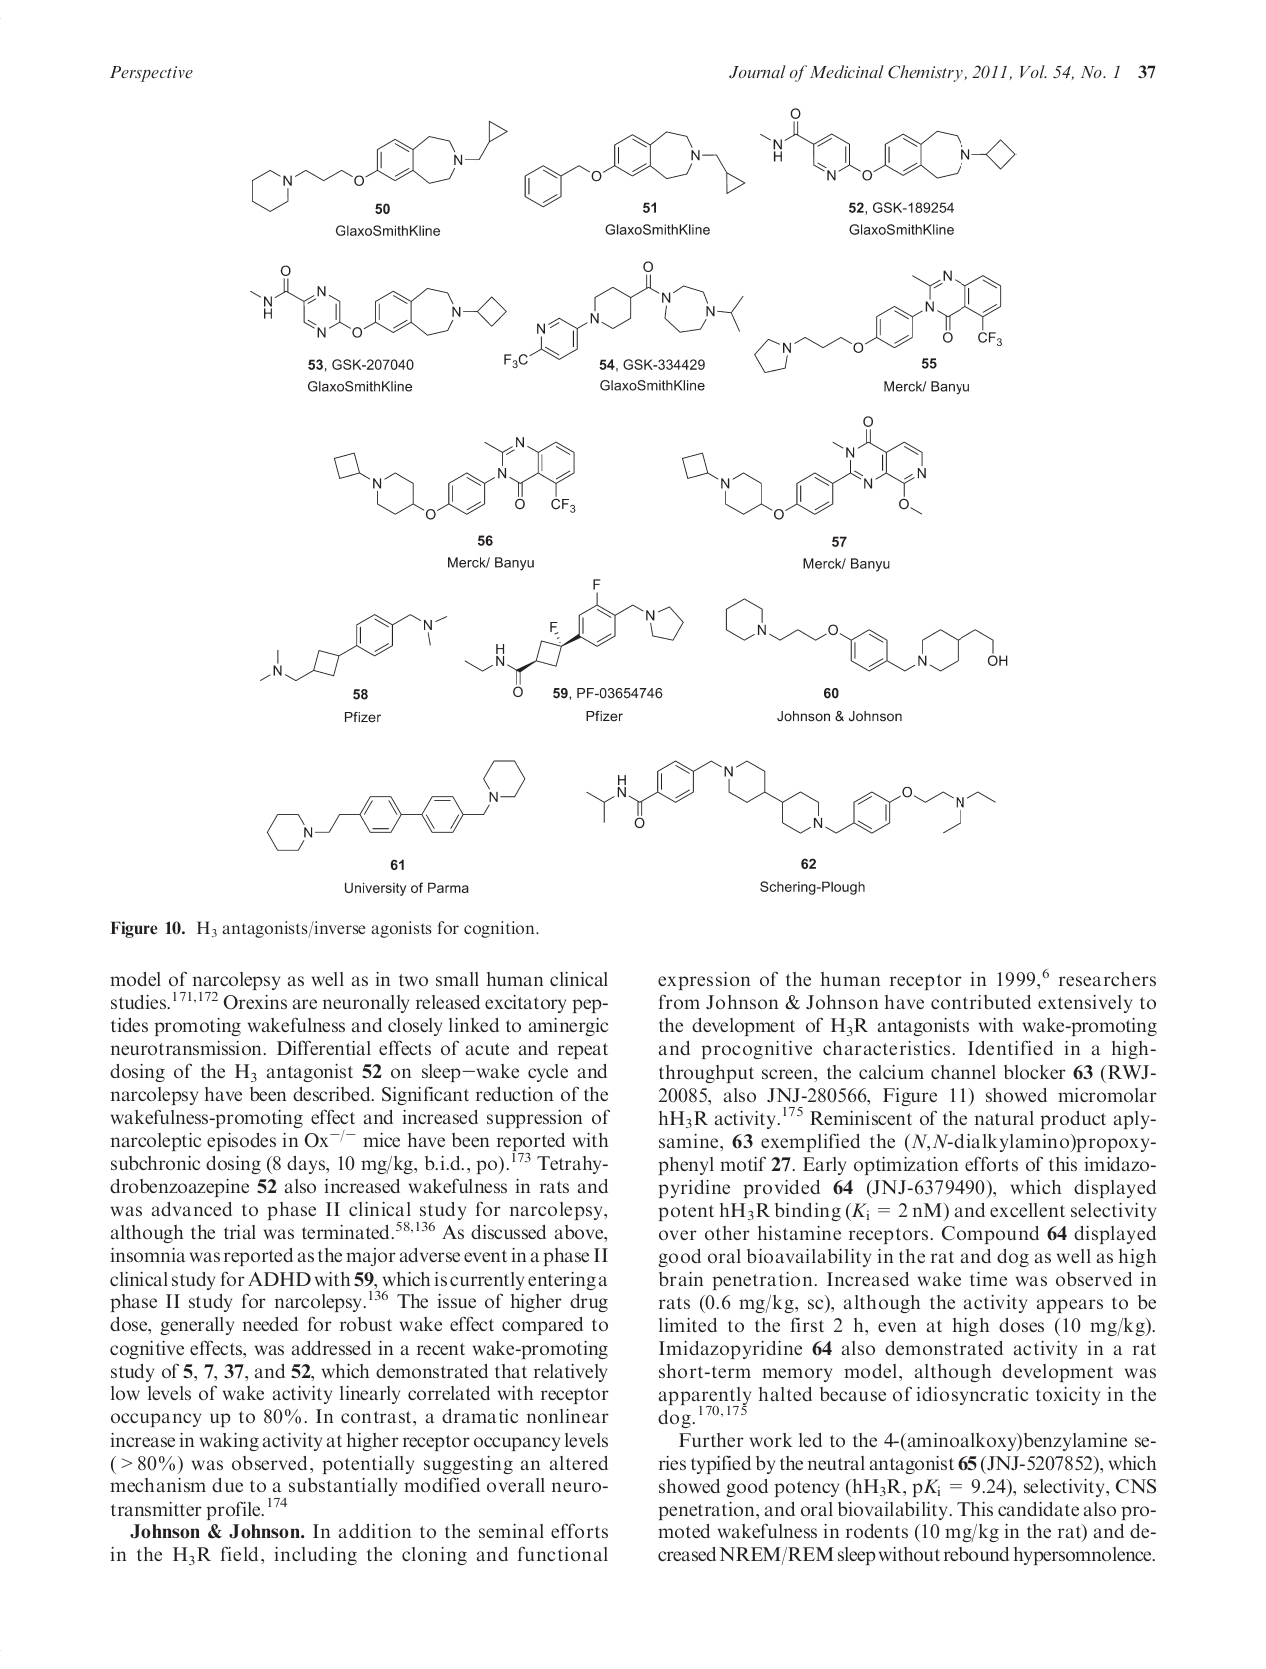exist_molecular: (581, 755, 1001, 839), (463, 576, 685, 698), (501, 261, 743, 372), (680, 414, 930, 521), (753, 269, 1005, 374), (265, 757, 529, 855), (247, 118, 511, 215), (721, 594, 1012, 681), (330, 436, 582, 523), (758, 106, 1019, 184), (247, 265, 507, 339), (523, 132, 747, 210), (257, 612, 449, 682)
